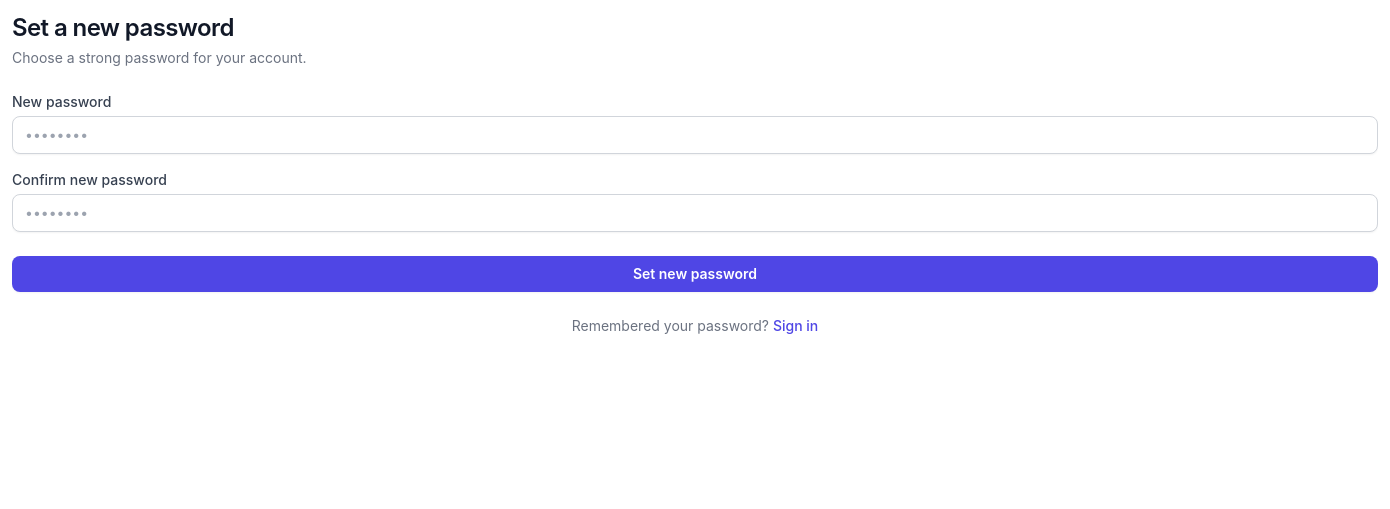
Test: ResetPasswordPage › shows password strength bar on typing in new password field
Type "Test1!" into the password field labelled "New password" at (695, 135), box x1=12 y1=116 x2=1378 y2=154
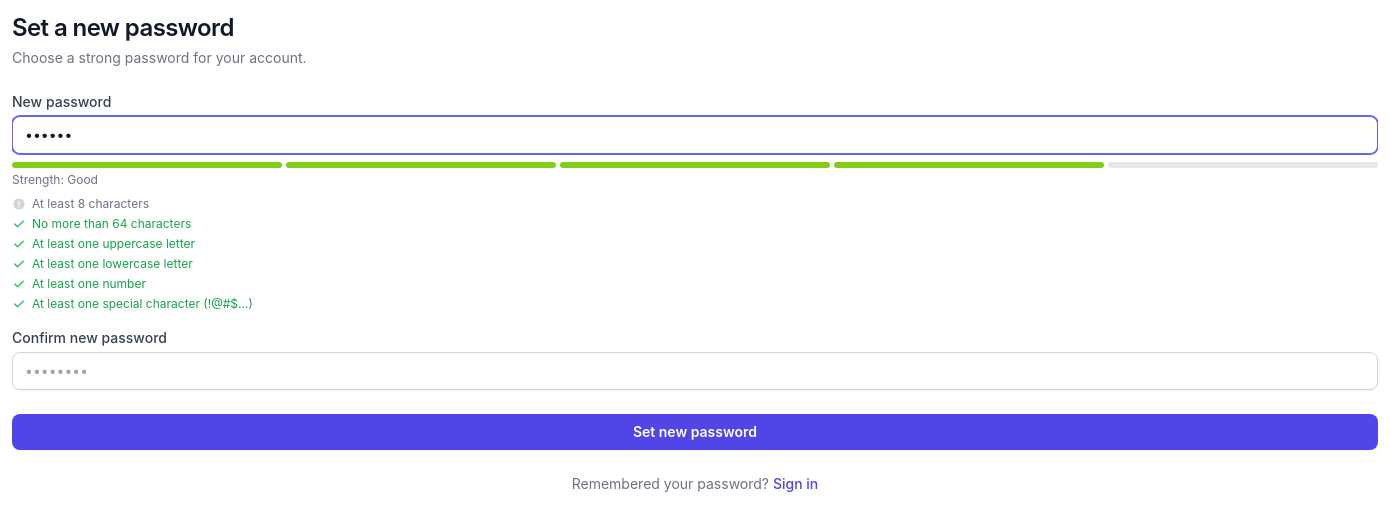
Result: the progress indicator is shown at x1=12 y1=162 x2=1378 y2=168
